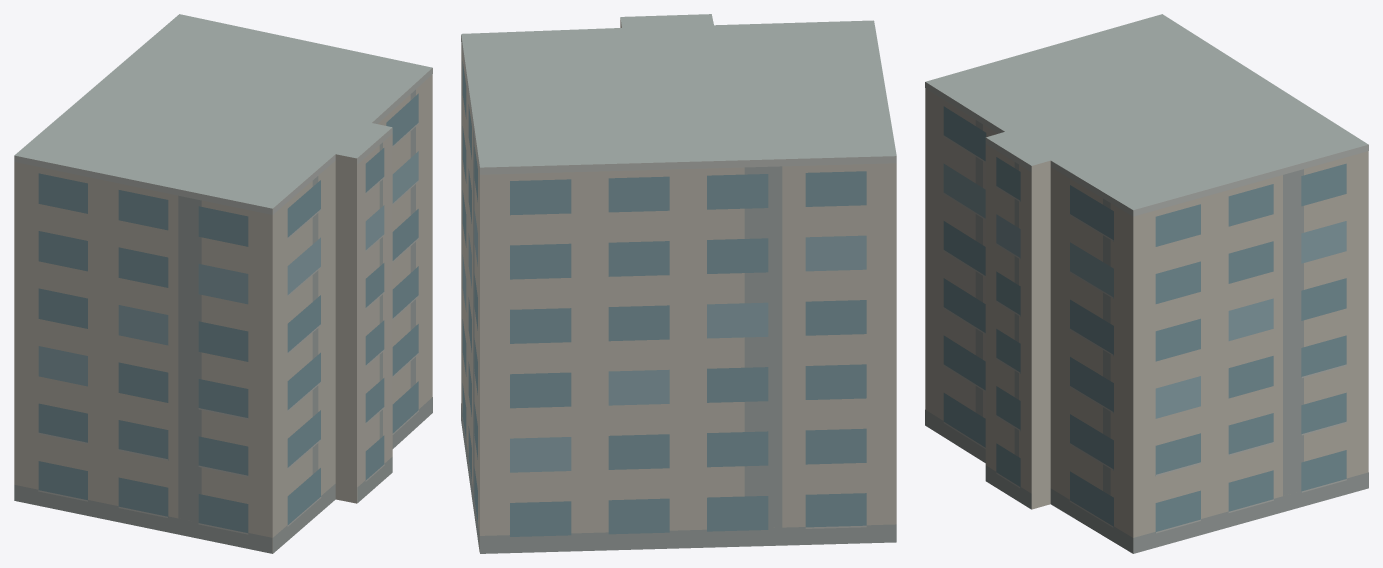
File: survey-upis-32882664.glb
The picture shows the model from 3 angles, left to right: view 1: azimuth 30°, elevation 25°; view 2: azimuth 150°, elevation 25°; view 3: azimuth 270°, elevation 25°; orthographic projection. The views are drawn at different scales.
Parts seen in each view (by area): view 1: survey-upis-32882664.tmp; view 2: survey-upis-32882664.tmp; view 3: survey-upis-32882664.tmp.
Part boxes in pixels (left/top/right/bottom): survey-upis-32882664.tmp: left=14, top=14, right=432, bottom=553; survey-upis-32882664.tmp: left=461, top=14, right=896, bottom=553; survey-upis-32882664.tmp: left=925, top=14, right=1368, bottom=553.
Size of the model in its own units: 16.05 by 13.1 by 15.33.
